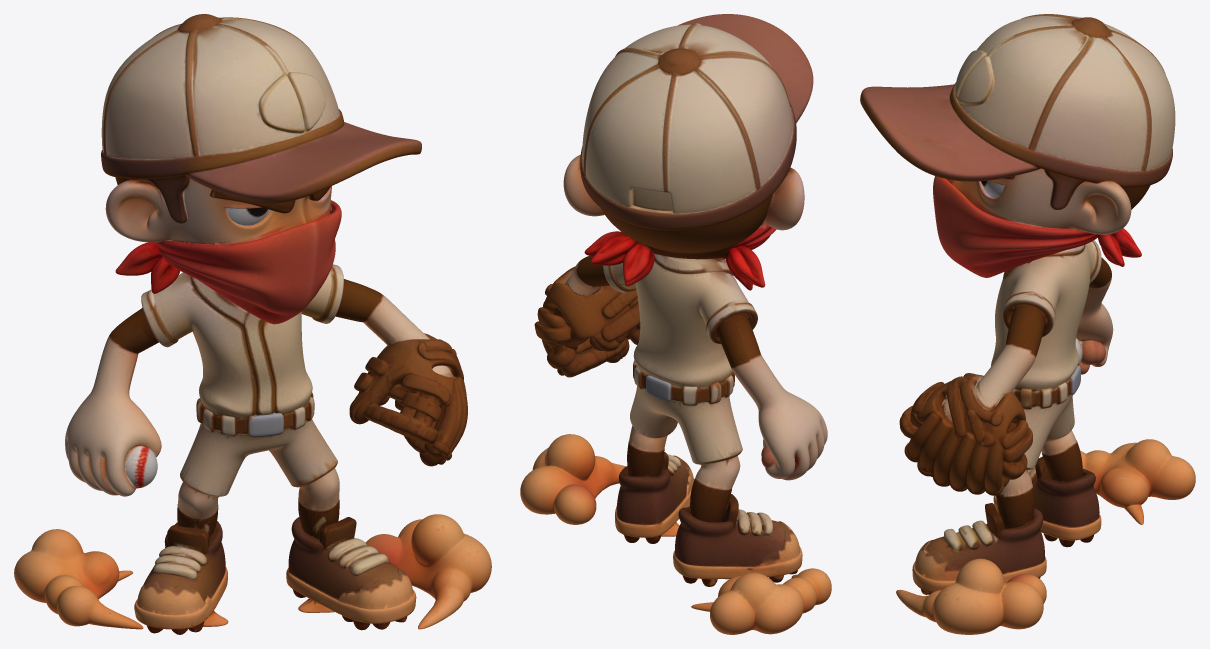
Rendered from character.glb.
The picture shows the model from 3 angles, left to right: view 1: azimuth 30°, elevation 25°; view 2: azimuth 150°, elevation 25°; view 3: azimuth 270°, elevation 25°; orthographic projection. The views are drawn at different scales.
Visible parts, largest first — view 1: material; view 2: material; view 3: material.
Boxes of the visible parts, x1,y1,x2,y2 form: material: [14, 14, 491, 634]; material: [520, 14, 831, 634]; material: [860, 14, 1195, 634].
Size of the model in its own units: 0.6552 by 0.9579 by 0.5549.
Materials: 1 (1 with a texture image).
